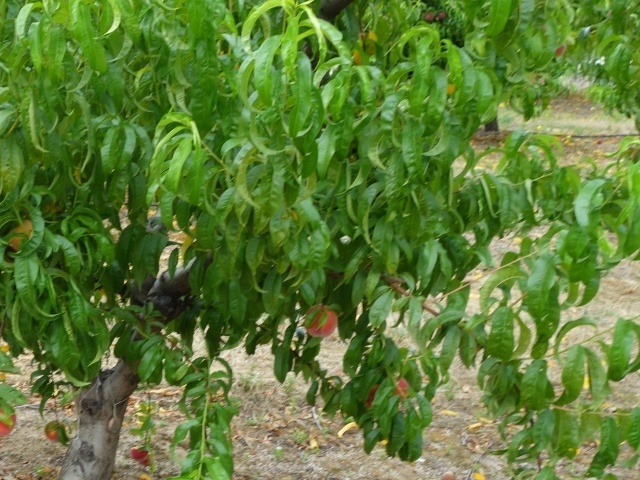peach: (300, 301, 339, 343), (43, 417, 72, 445)
